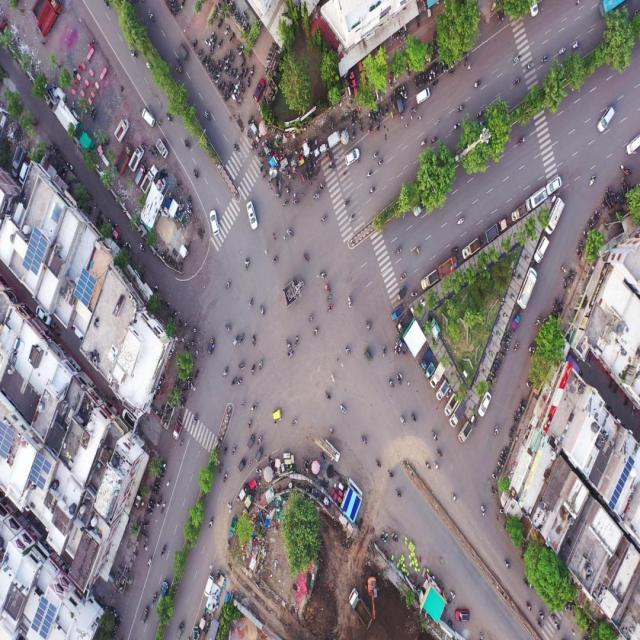3W: (141, 605, 151, 626), (178, 42, 189, 61), (173, 57, 185, 73), (363, 348, 374, 363), (237, 458, 247, 474), (206, 338, 214, 358), (176, 621, 185, 638), (272, 406, 281, 422), (246, 434, 255, 450), (397, 287, 407, 301), (255, 448, 264, 462)
Cars: (596, 102, 616, 136), (533, 234, 551, 264), (476, 392, 492, 418), (246, 199, 259, 229), (158, 578, 170, 608), (140, 107, 156, 129), (546, 177, 564, 196), (623, 136, 640, 156), (208, 208, 220, 236), (344, 147, 360, 167), (253, 77, 265, 101), (394, 86, 404, 114), (203, 573, 215, 596), (454, 607, 470, 623), (416, 88, 430, 104)
LCV: (544, 195, 566, 236), (518, 267, 536, 306), (526, 185, 546, 213), (437, 255, 458, 280), (142, 163, 156, 193), (449, 403, 466, 427), (434, 379, 450, 403), (462, 238, 480, 259), (420, 269, 438, 289), (457, 420, 472, 443), (129, 146, 143, 170), (430, 363, 443, 388), (511, 202, 526, 223), (326, 130, 342, 148), (115, 118, 128, 140), (397, 313, 410, 335), (420, 350, 433, 371), (156, 139, 170, 158), (444, 398, 457, 418), (133, 165, 145, 185), (509, 313, 520, 334), (172, 420, 182, 440), (390, 306, 403, 319), (426, 364, 434, 379)
M2W: (182, 137, 191, 155), (510, 340, 520, 356), (511, 52, 521, 67), (158, 542, 167, 558), (147, 8, 155, 26), (306, 312, 316, 326), (588, 172, 597, 187), (398, 412, 407, 427), (408, 288, 419, 300), (373, 456, 383, 469), (231, 332, 239, 348), (231, 141, 240, 155), (455, 102, 466, 113), (539, 53, 550, 64), (222, 365, 230, 380), (367, 184, 377, 196), (569, 40, 581, 50), (398, 270, 408, 282), (431, 429, 439, 444), (338, 403, 348, 415), (435, 447, 444, 460), (262, 166, 270, 180), (394, 486, 401, 502), (493, 422, 500, 438), (558, 46, 567, 58), (517, 136, 526, 148), (193, 366, 200, 381), (538, 609, 546, 622), (71, 66, 77, 83), (412, 246, 422, 256), (534, 618, 544, 628), (286, 349, 295, 360), (452, 120, 461, 131), (326, 302, 334, 314), (312, 324, 318, 340), (250, 333, 256, 349), (243, 256, 249, 272), (224, 321, 232, 333), (250, 402, 258, 414), (456, 216, 464, 228), (324, 390, 332, 402), (259, 301, 264, 320), (323, 281, 330, 294), (388, 468, 395, 481), (521, 578, 528, 591), (401, 84, 408, 97), (292, 333, 298, 348), (248, 295, 254, 310), (238, 332, 244, 347), (208, 515, 214, 530), (192, 411, 198, 426), (375, 157, 384, 167), (524, 62, 533, 72), (396, 372, 402, 387), (500, 7, 506, 22), (495, 11, 501, 26), (389, 93, 394, 111), (273, 189, 281, 200), (371, 150, 379, 161), (347, 296, 353, 310), (231, 442, 237, 456), (129, 48, 136, 60), (286, 227, 293, 239), (258, 161, 264, 175), (473, 79, 480, 91), (410, 411, 417, 423), (451, 491, 458, 503), (525, 600, 532, 612), (216, 17, 222, 31), (429, 135, 438, 144), (223, 441, 228, 457), (202, 111, 210, 121), (513, 77, 521, 87), (394, 245, 402, 255), (381, 343, 386, 359), (360, 435, 368, 445), (256, 434, 262, 447), (222, 470, 228, 483), (387, 78, 393, 91), (327, 150, 333, 163), (235, 42, 241, 55), (325, 293, 332, 304), (231, 376, 238, 387), (343, 198, 350, 209), (433, 461, 440, 472), (504, 560, 511, 571), (349, 114, 354, 129), (319, 272, 328, 280), (345, 344, 351, 356), (250, 364, 256, 376), (150, 593, 156, 605), (192, 168, 198, 180), (317, 182, 325, 191), (535, 315, 541, 327), (449, 246, 458, 254), (554, 620, 560, 632), (300, 172, 306, 184), (285, 338, 292, 348), (147, 555, 152, 569), (152, 144, 157, 158), (320, 214, 327, 224), (348, 212, 355, 222), (246, 76, 251, 90), (419, 138, 426, 148), (424, 461, 431, 471), (255, 466, 262, 476), (157, 495, 162, 509), (365, 321, 371, 332), (236, 376, 242, 387), (166, 112, 172, 123), (284, 184, 290, 195), (358, 123, 364, 134), (215, 59, 221, 70), (223, 59, 229, 70), (258, 358, 263, 371), (577, 247, 582, 260), (219, 460, 223, 476), (365, 170, 373, 178), (238, 362, 245, 371), (271, 255, 278, 264), (293, 197, 300, 206), (282, 199, 289, 208), (388, 379, 395, 388), (432, 78, 439, 87), (512, 416, 519, 425), (225, 279, 231, 289), (247, 418, 252, 430), (251, 63, 255, 78), (450, 590, 456, 600), (514, 410, 520, 420), (567, 273, 573, 283), (579, 240, 584, 252), (425, 73, 430, 85), (413, 76, 418, 88), (230, 32, 235, 44), (218, 38, 224, 48), (148, 148, 154, 158), (89, 106, 94, 118), (240, 82, 245, 94), (478, 234, 483, 246), (313, 192, 320, 200), (476, 110, 483, 118), (508, 426, 516, 433), (495, 466, 502, 474), (563, 276, 567, 290), (568, 269, 576, 276), (351, 127, 355, 141), (367, 111, 371, 125), (308, 161, 312, 175), (197, 49, 204, 57), (141, 142, 148, 150), (92, 109, 96, 123), (140, 530, 147, 538), (145, 510, 152, 518), (328, 164, 335, 172), (291, 418, 297, 427), (303, 254, 309, 263), (503, 344, 509, 353), (204, 38, 210, 47), (553, 294, 557, 307), (442, 59, 446, 72), (418, 74, 422, 87), (306, 169, 310, 182), (224, 25, 229, 35), (192, 39, 197, 49), (217, 2, 222, 12), (209, 44, 214, 54), (218, 65, 223, 75), (230, 55, 235, 65), (241, 58, 246, 68), (448, 69, 455, 76), (499, 352, 505, 360), (492, 472, 498, 480), (496, 462, 504, 468), (439, 62, 443, 74), (436, 64, 440, 76), (422, 73, 426, 85), (384, 104, 388, 116), (380, 107, 384, 119), (376, 120, 380, 132), (257, 152, 265, 158), (222, 54, 226, 66), (218, 78, 222, 90), (244, 66, 248, 78), (236, 74, 240, 86), (494, 359, 503, 364), (228, 69, 233, 78), (274, 177, 278, 188), (248, 114, 252, 125), (210, 31, 214, 42), (505, 331, 512, 337), (519, 403, 525, 410), (551, 311, 558, 317), (143, 521, 149, 528), (371, 113, 375, 123), (213, 33, 217, 43), (202, 55, 206, 65), (228, 50, 232, 60), (222, 81, 226, 91), (216, 74, 220, 84), (239, 46, 243, 56), (526, 382, 532, 388), (520, 399, 526, 405), (353, 110, 356, 122), (246, 132, 252, 138), (233, 68, 237, 77), (149, 499, 155, 505), (148, 504, 154, 510), (493, 364, 500, 369), (503, 447, 509, 452), (278, 178, 281, 188), (501, 452, 507, 456), (240, 71, 243, 78)
Truck: (37, 0, 62, 37), (349, 588, 372, 628), (112, 141, 132, 175)
